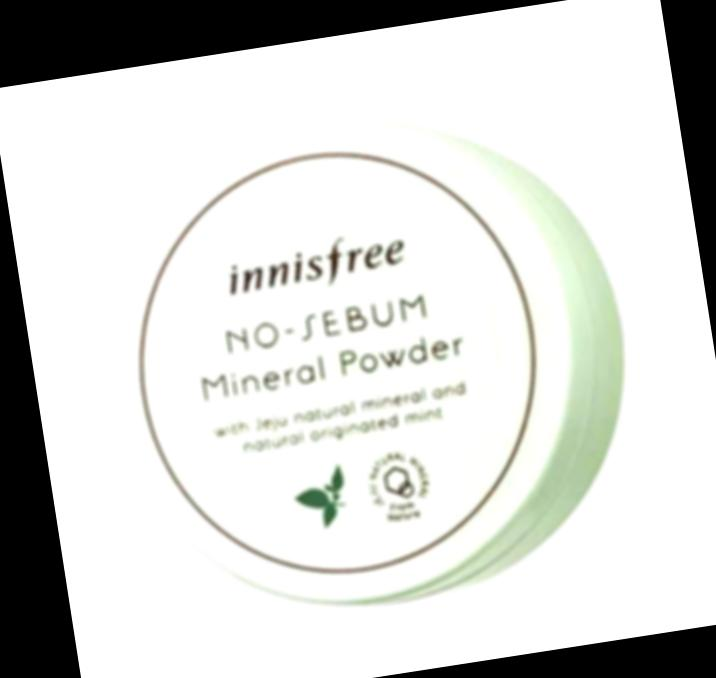cosmetic: (86, 87, 645, 630)
